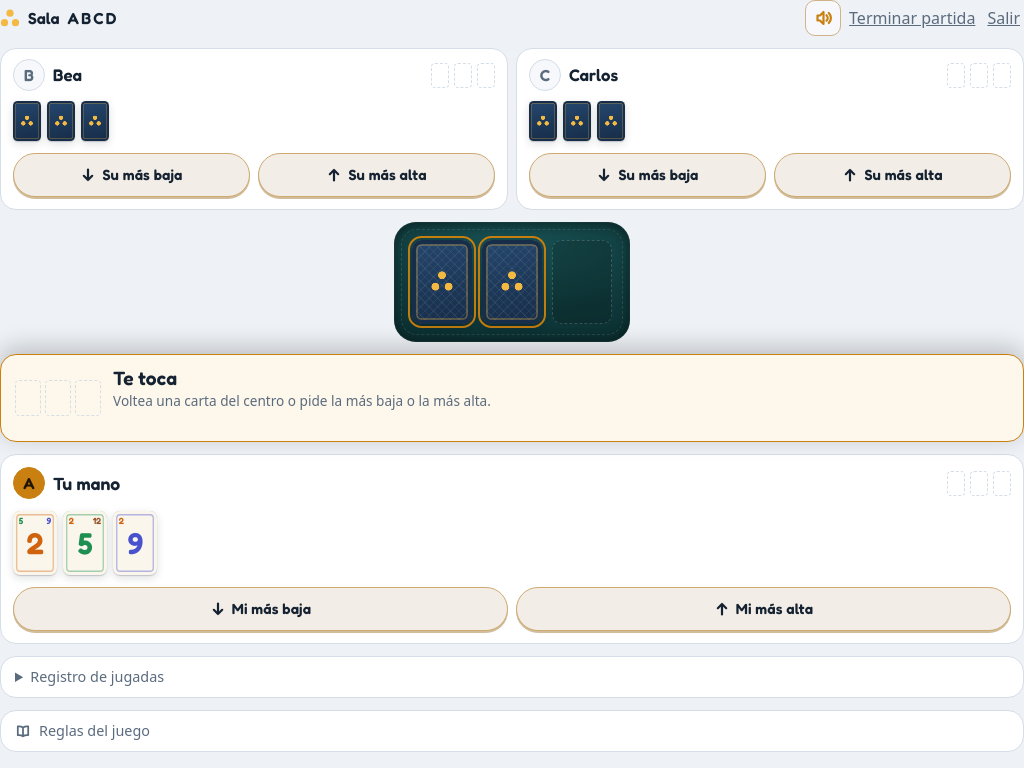
Test: dónde se leen › en plena partida
Click the button "Reglas del juego" at (95, 731), box top-left (0, 710), bottom-right (1023, 752)
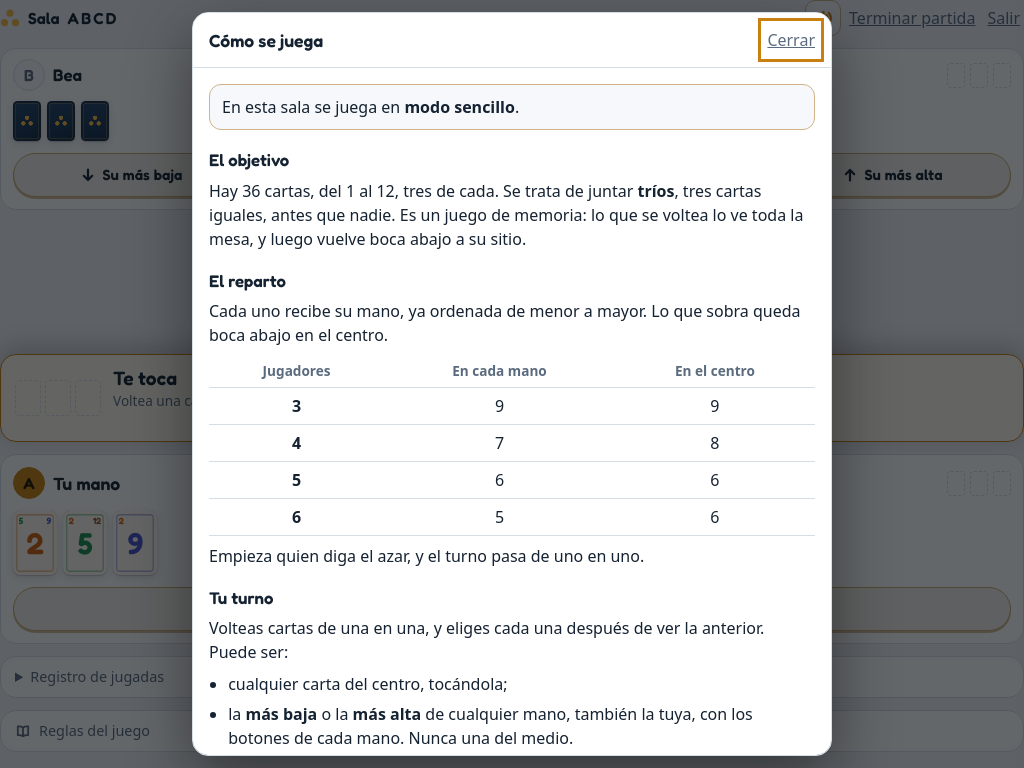
Result: the text "modo sencillo" is shown at top-left (404, 96), bottom-right (515, 118)
